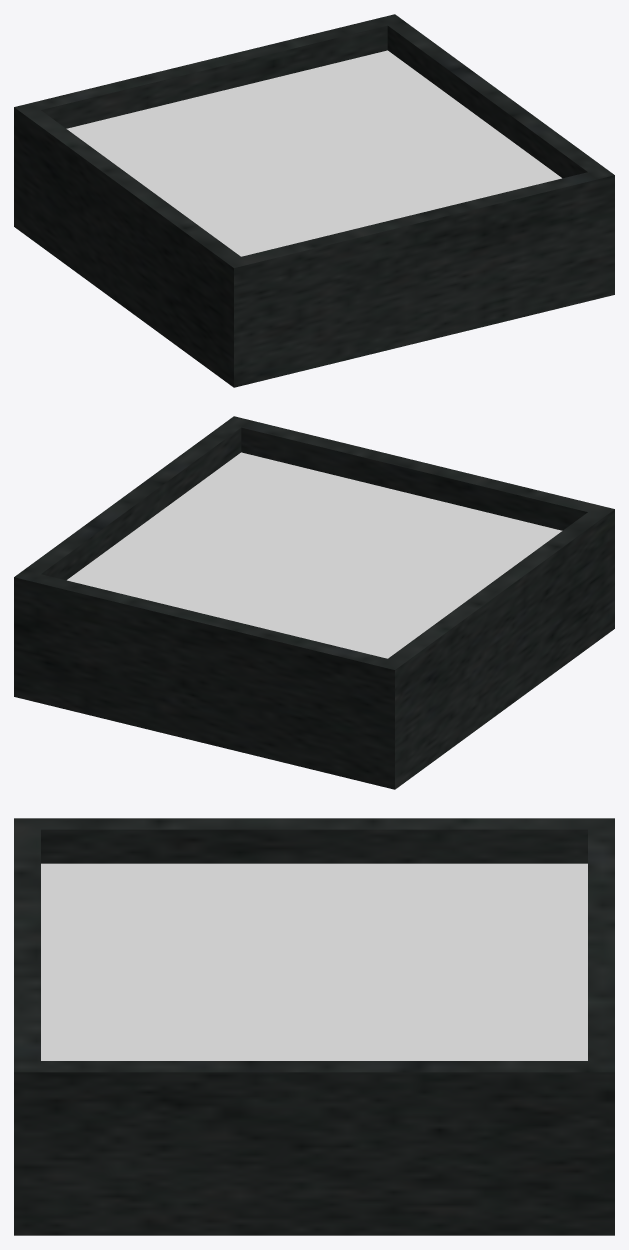
The model's file is food_container.glb.
The picture shows the model from 3 angles, top to bottom: view 1: azimuth 30°, elevation 25°; view 2: azimuth 150°, elevation 25°; view 3: azimuth 270°, elevation 25°; orthographic projection. The views are drawn at different scales.
Visible parts, largest first — view 1: Cube; view 2: Cube; view 3: Cube.
Boxes of the visible parts, x1=… form: Cube: x1=14, y1=14, x2=614, y2=387; Cube: x1=14, y1=416, x2=614, y2=789; Cube: x1=14, y1=818, x2=614, y2=1235.
Size of the model in its own units: 2 by 0.6 by 2.
2 materials, 1 textured.
